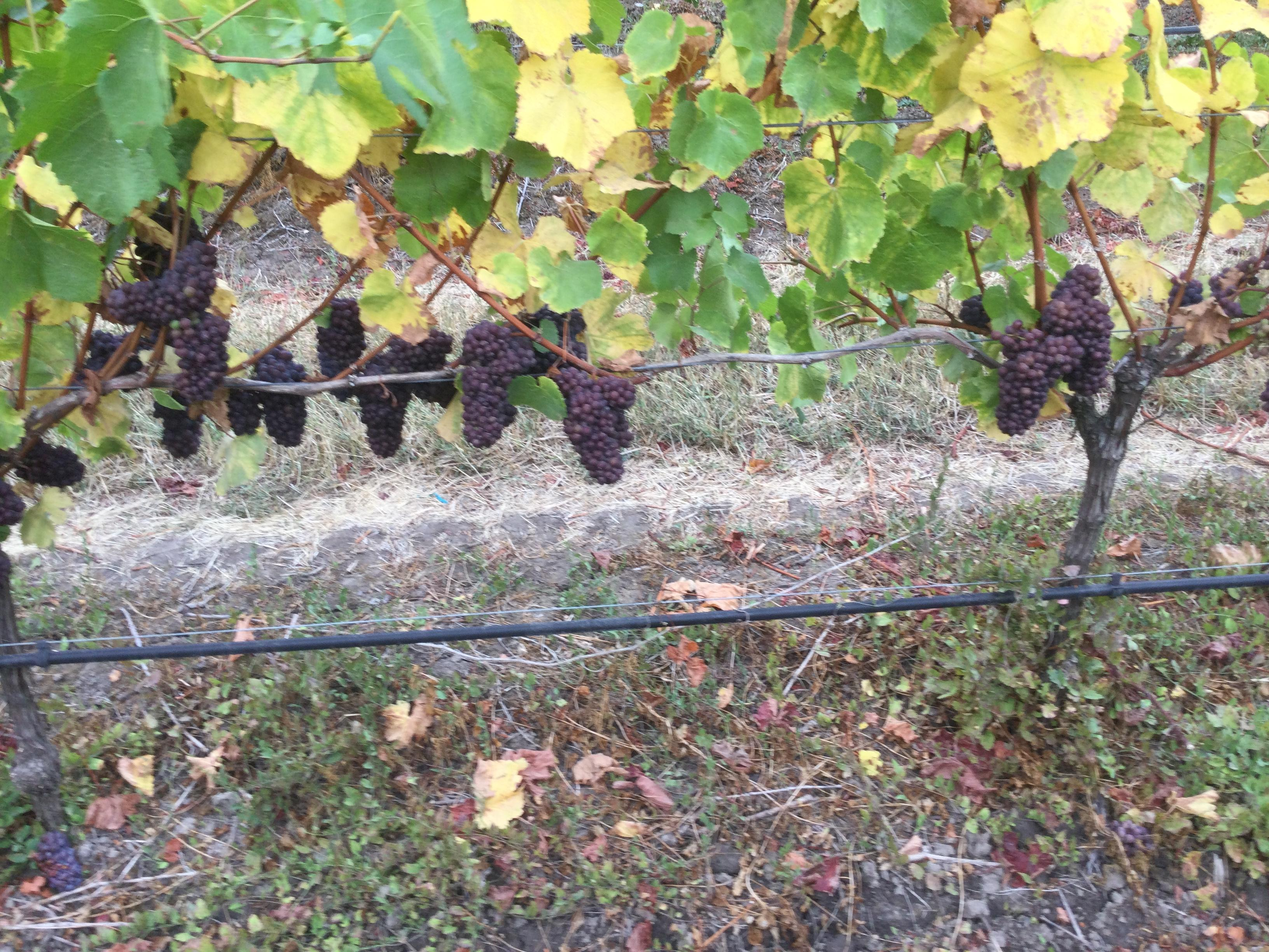leaf: (959, 8, 1127, 167), (344, 0, 517, 154), (516, 50, 634, 169), (0, 180, 102, 313), (781, 158, 884, 268), (669, 89, 762, 177), (467, 0, 590, 56), (394, 152, 491, 222), (781, 44, 860, 122), (1033, 0, 1135, 60), (858, 0, 949, 60), (582, 288, 653, 361), (693, 240, 740, 350), (526, 247, 603, 312), (360, 268, 431, 338), (623, 9, 685, 81), (768, 287, 829, 353), (587, 207, 648, 266), (1090, 164, 1155, 218), (215, 432, 267, 495), (21, 487, 73, 548), (507, 376, 566, 420), (774, 361, 830, 405), (1205, 6, 1206, 10)
